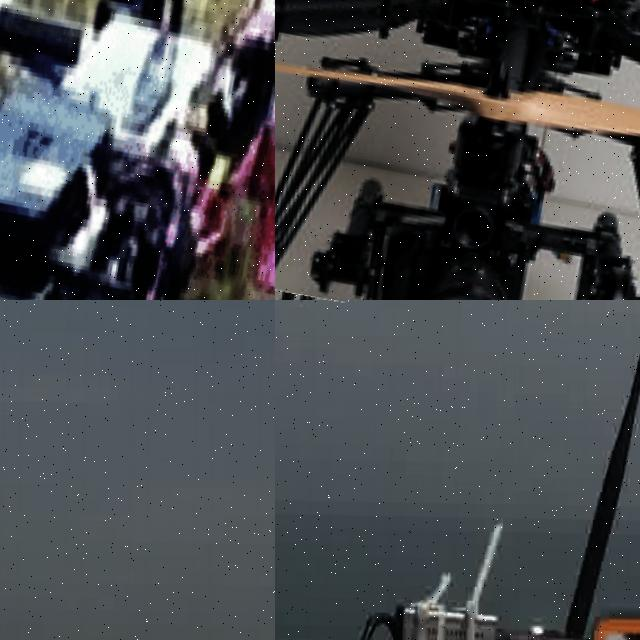drone: (275, 0, 640, 300), (0, 0, 275, 300)
